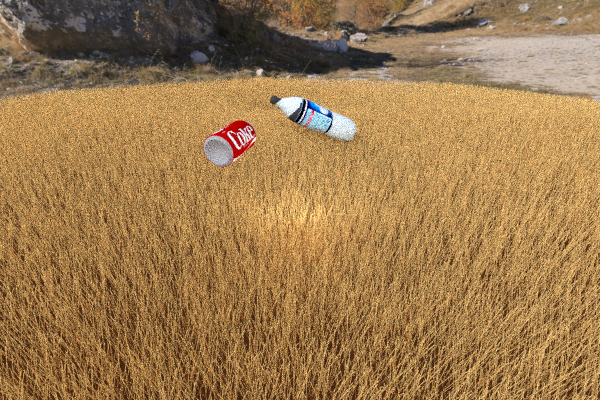Plastic Bottle: (269, 95, 357, 141), (203, 120, 256, 167)
